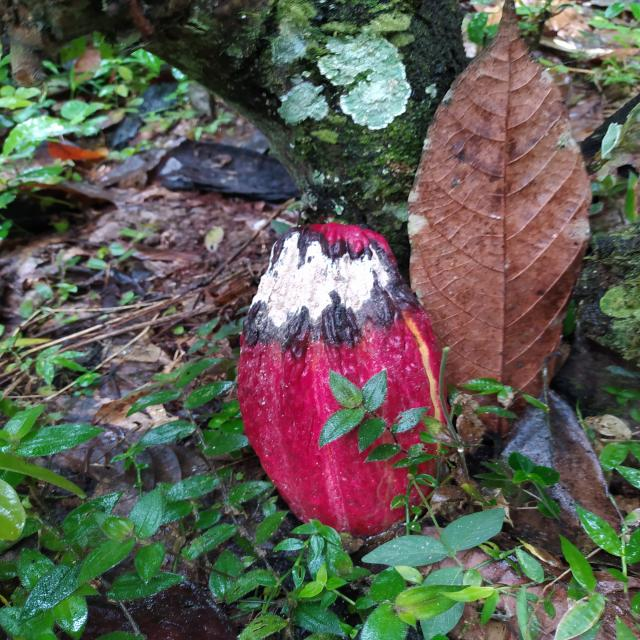Monilia: (234, 222, 446, 543)
